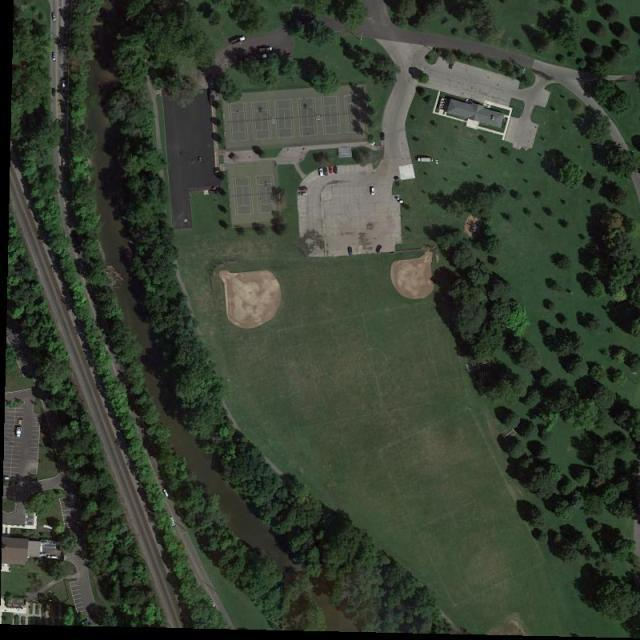vehicle: (168, 516, 176, 527), (323, 166, 329, 177), (163, 490, 170, 498), (370, 187, 376, 196), (348, 246, 353, 256), (299, 192, 308, 197), (319, 168, 324, 177), (53, 12, 57, 22), (334, 166, 338, 174), (51, 89, 55, 97), (53, 52, 56, 62), (381, 133, 385, 140), (62, 80, 66, 87), (299, 187, 308, 190), (62, 160, 66, 166), (330, 166, 333, 174)
